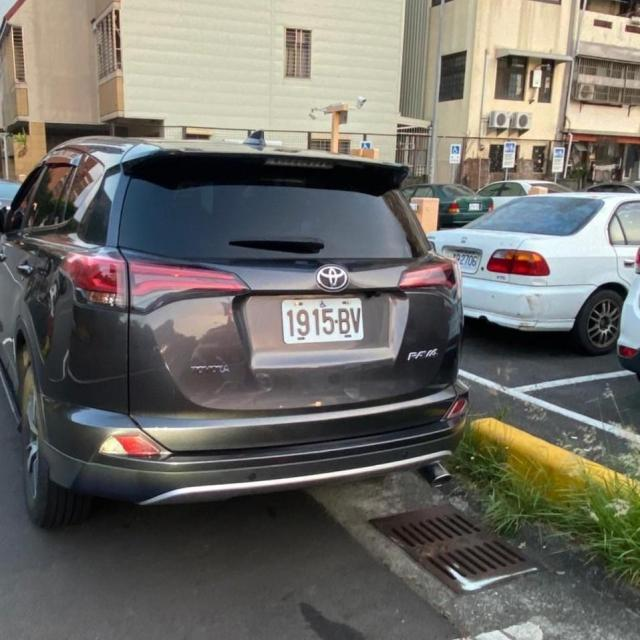W: (273, 294, 370, 348)
